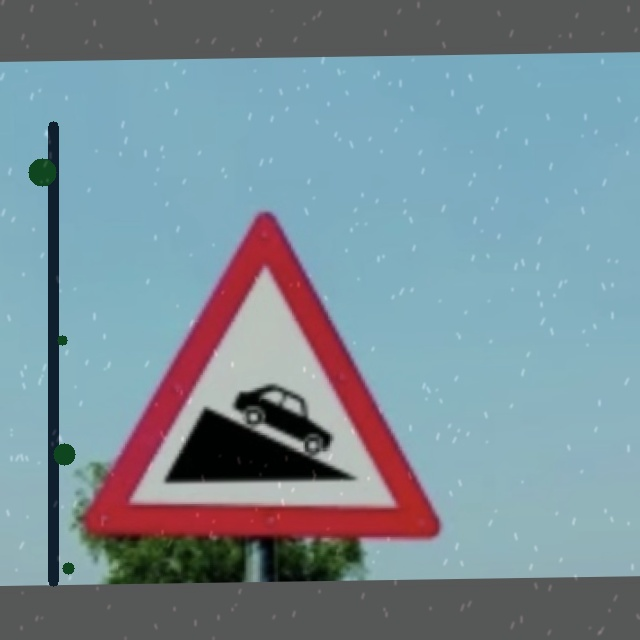Steep_Descent: (83, 214, 436, 539)
